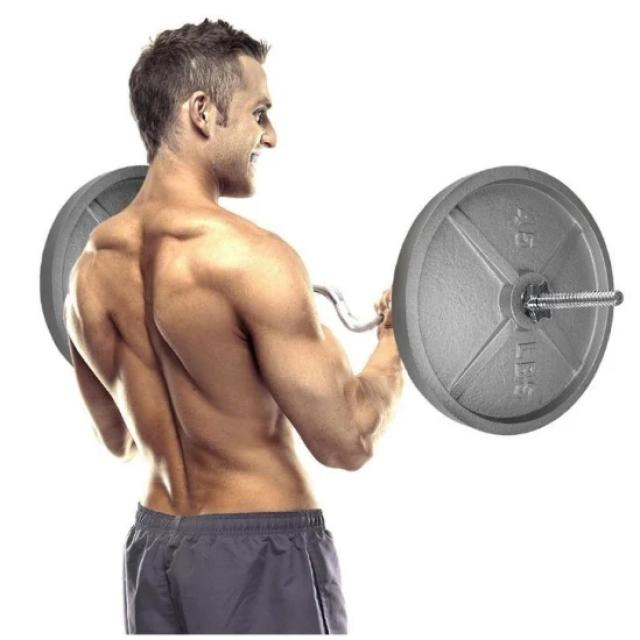barbell_plate_side: (39, 162, 185, 435), (477, 162, 623, 435)
